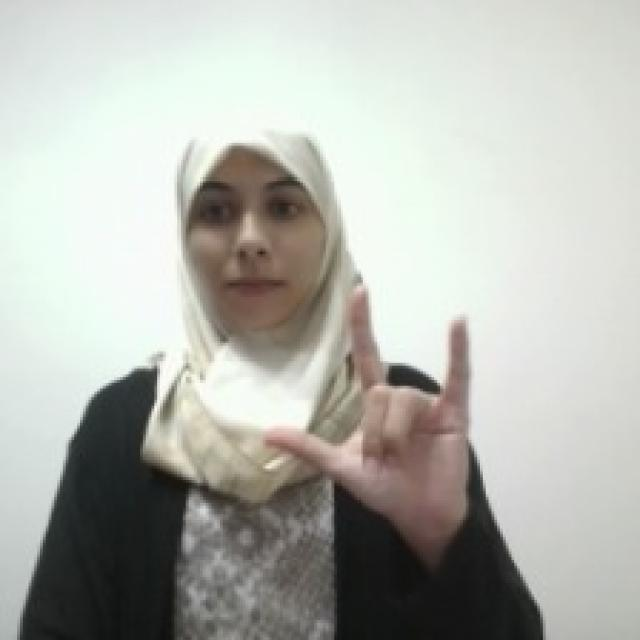love: (258, 275, 476, 524)
